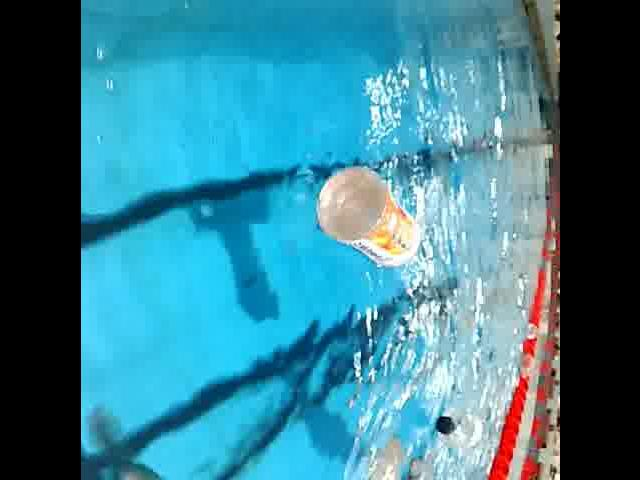Bottle: (309, 161, 431, 281), (426, 401, 498, 458)
